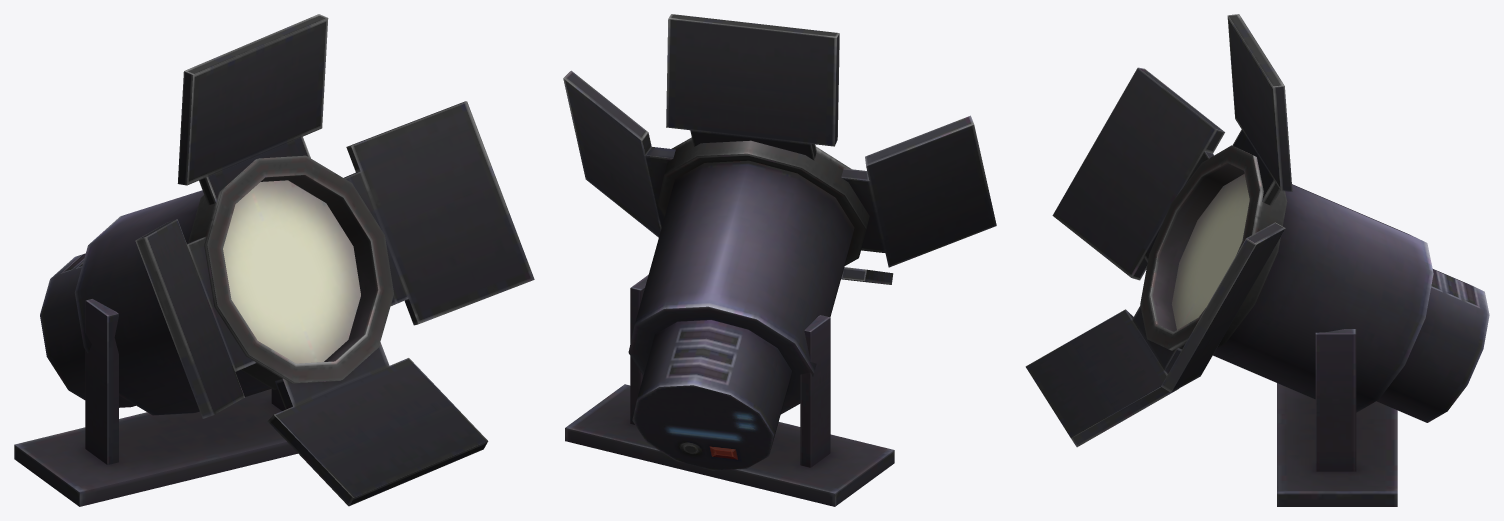
File: furn_syp2017_deco_005.gltf
3 views of the same model, side by side, from view 1: azimuth 30°, elevation 25°; view 2: azimuth 150°, elevation 25°; view 3: azimuth 270°, elevation 25° (orthographic). The views are drawn at different scales.
Parts seen in each view (by area): view 1: syp2017_deco_005; view 2: syp2017_deco_005; view 3: syp2017_deco_005.
Boxes of the visible parts, left/top/right/bottom form: syp2017_deco_005: left=14, top=14, right=534, bottom=506; syp2017_deco_005: left=563, top=14, right=996, bottom=506; syp2017_deco_005: left=1025, top=14, right=1489, bottom=506.
Bounding box in the file's own units: 0.3194 × 0.3194 × 0.338.
Materials: 1 (1 with a texture image).
